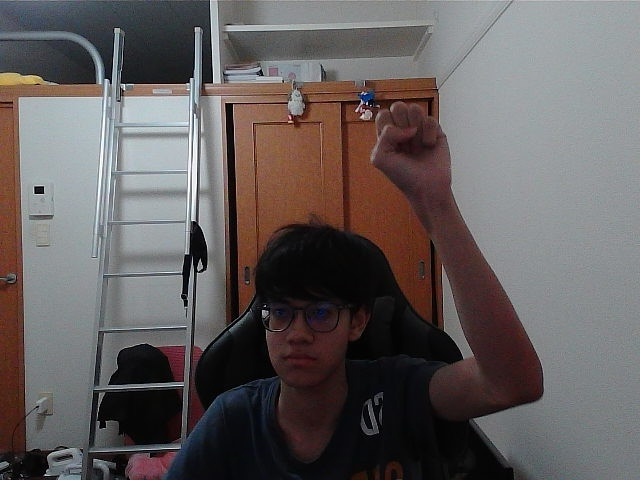closed_palm: (381, 107, 434, 187)
